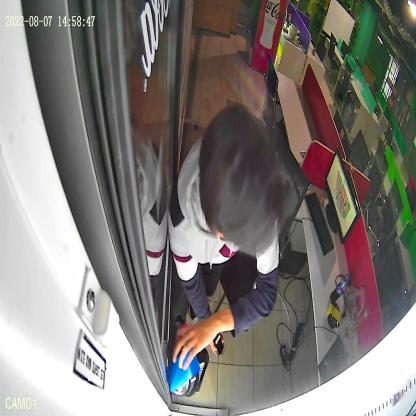blue: (166, 350, 200, 398)
red: (166, 314, 210, 392)
